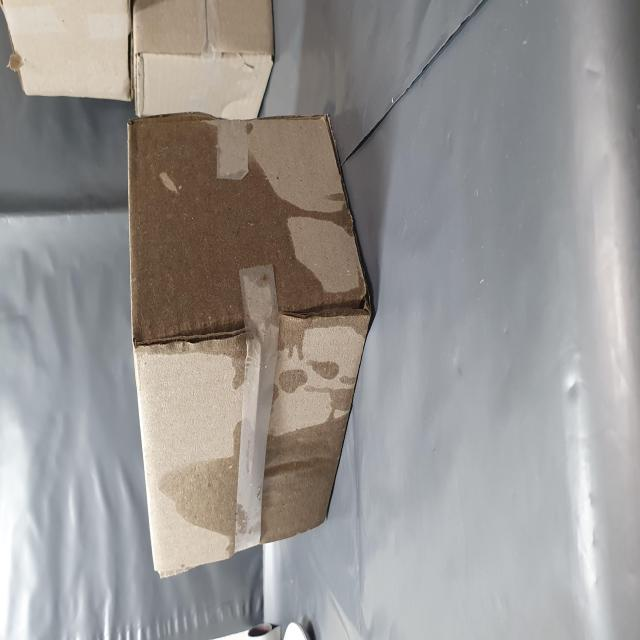wet: (169, 230, 298, 640), (45, 298, 126, 624)
